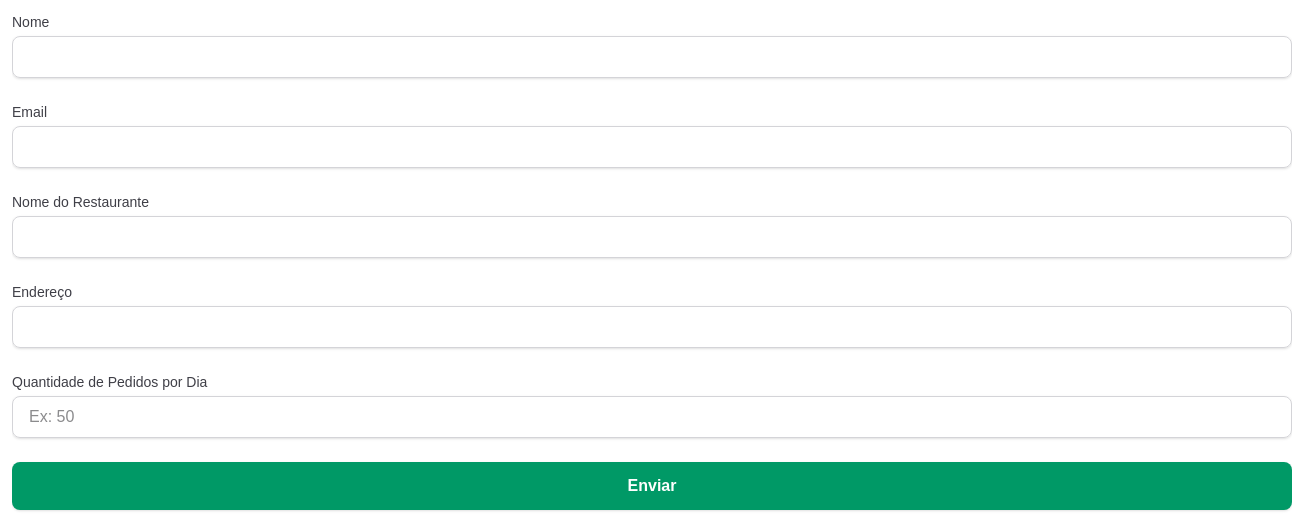
Test: ContactForm › disables submit button while loading
Type "João Silva" into the field labelled "Nome" at (652, 57), box [12,36,1292,78]
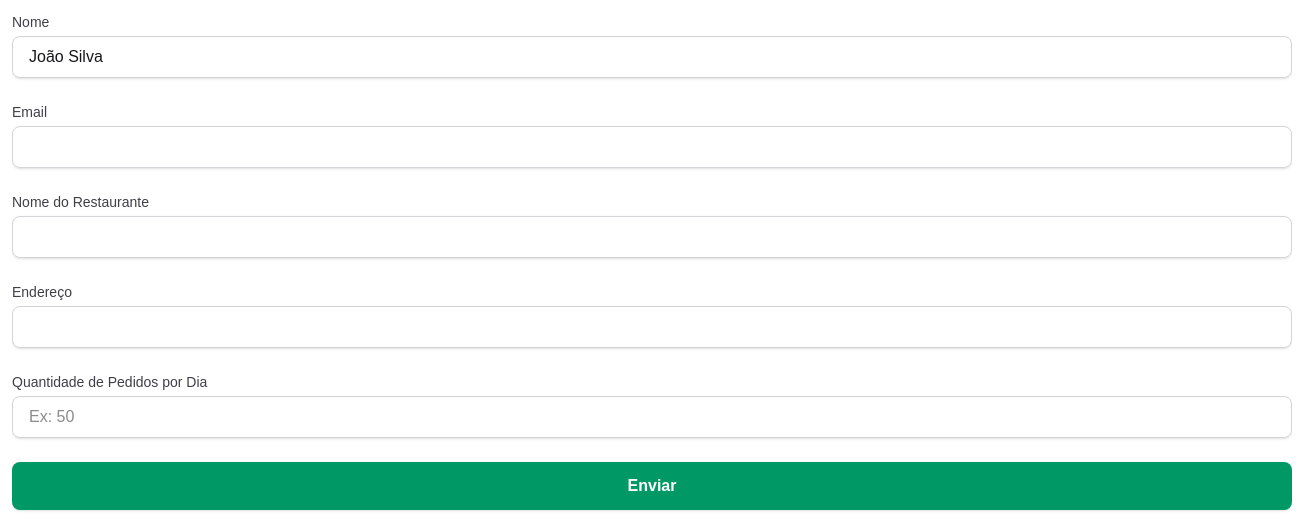
Type "joao@email.com" into the field labelled "Email" at (652, 147), box [12,126,1292,168]
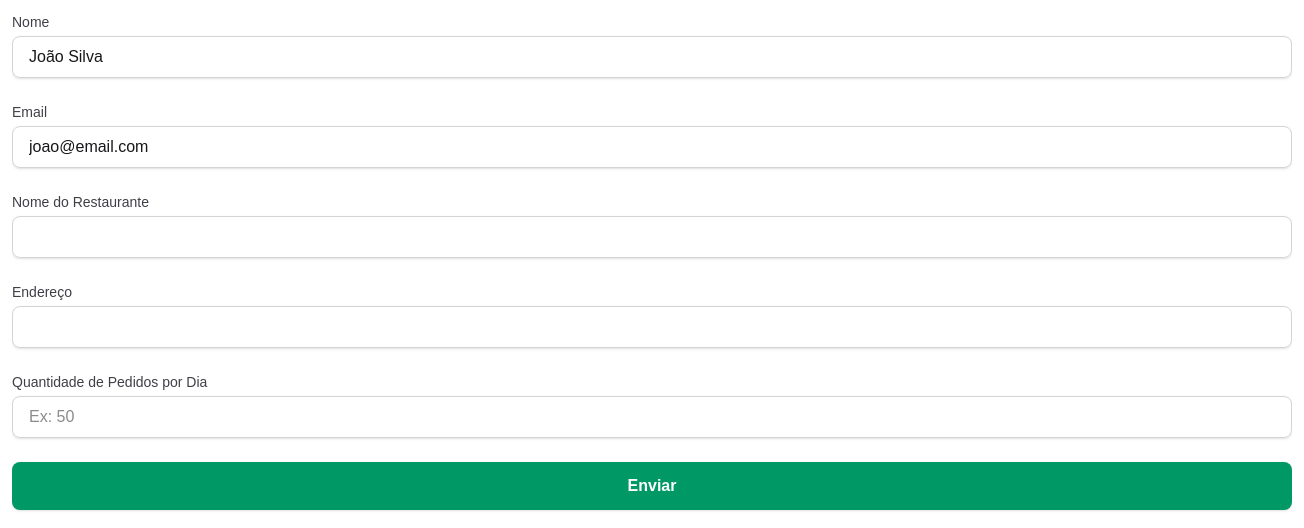
Type "Pizzaria do João" into the field labelled "Nome do Restaurante" at (652, 237), box [12,216,1292,258]
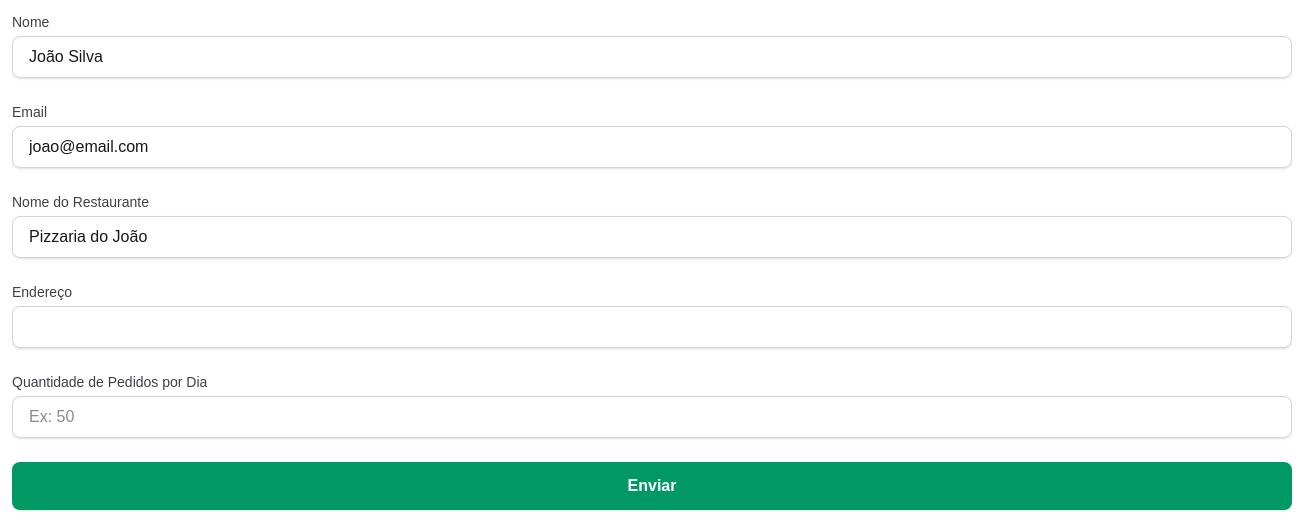
Type "Rua A, 123" into the field labelled "Endereço" at (652, 327), box [12,306,1292,348]
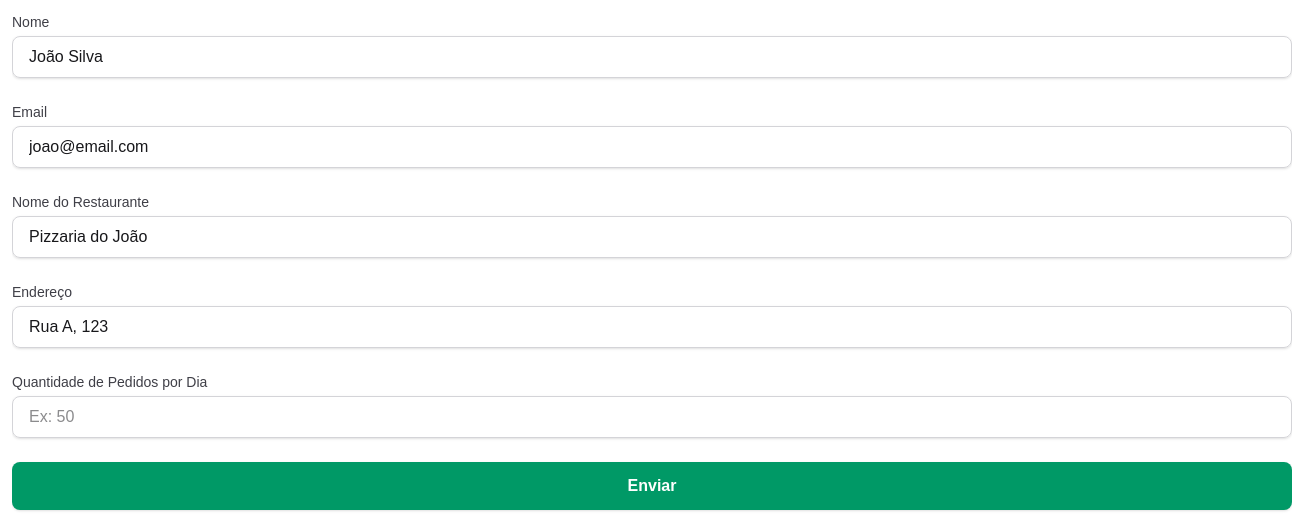
Type "50" into the field labelled "Quantidade de Pedidos por Dia" at (652, 417), box [12,396,1292,438]
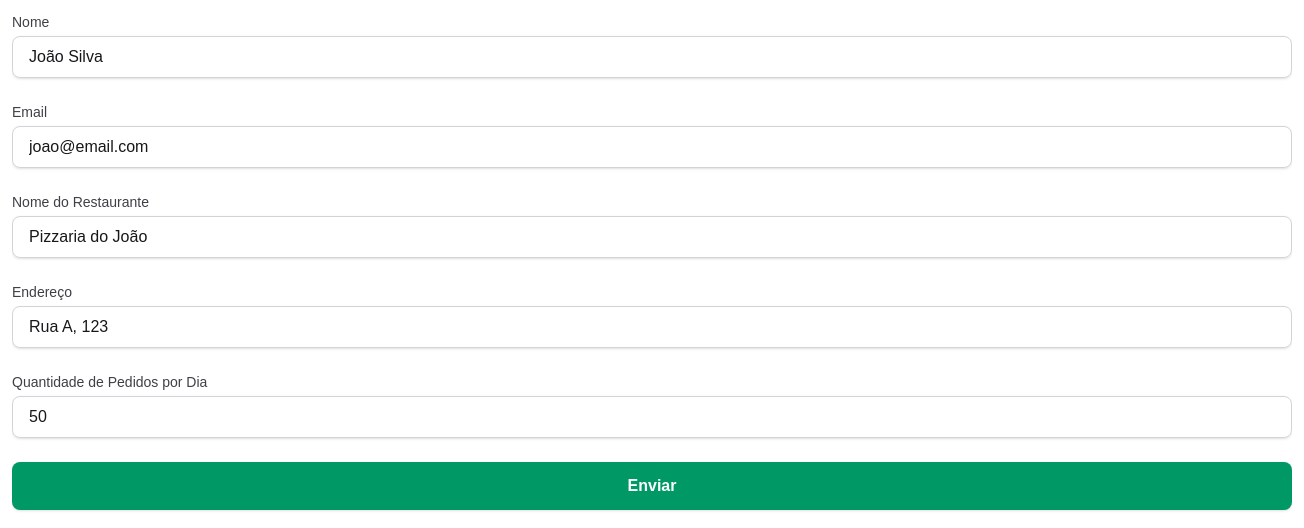
Click the button "Enviar" at (652, 486), box [12,462,1292,510]
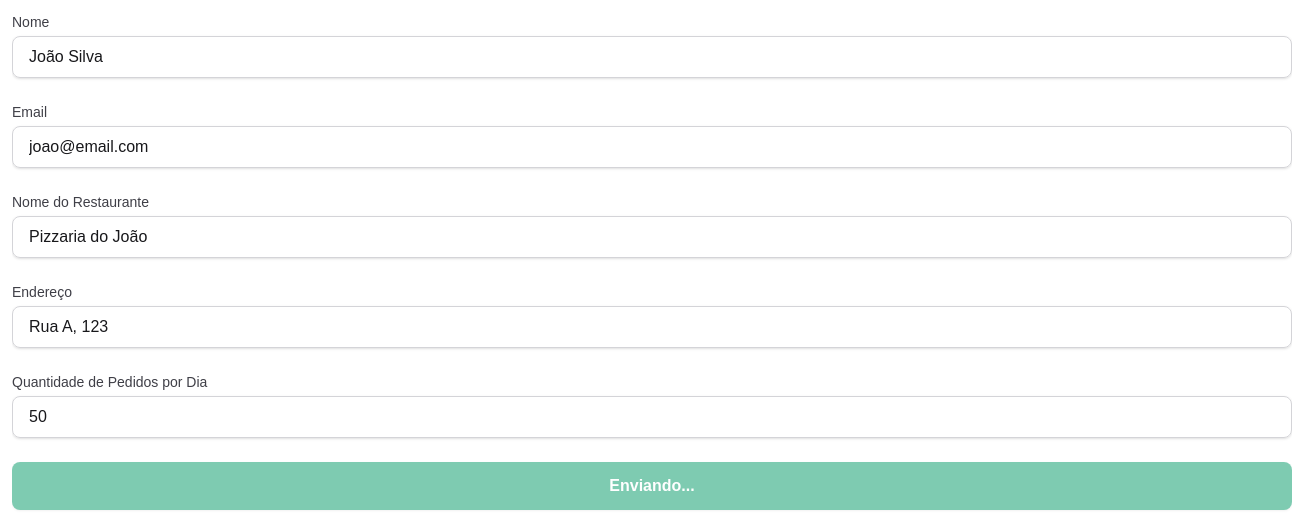
expect the button is disabled: met, box [12,462,1292,510]
